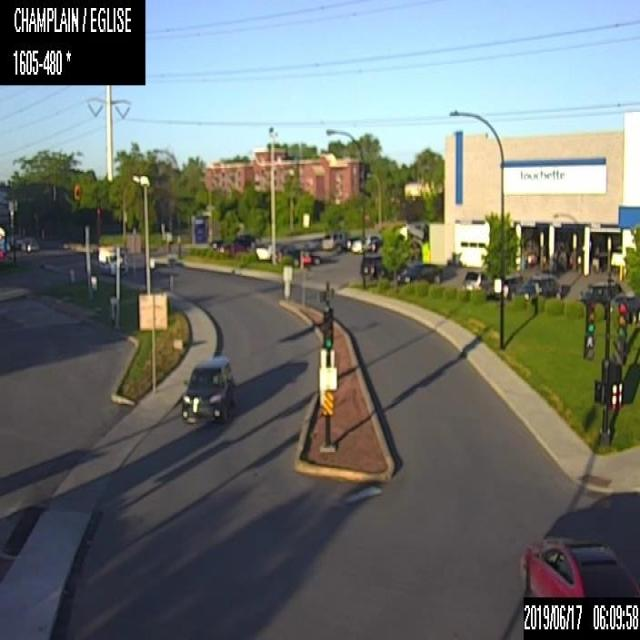vehicle: (517, 535, 639, 596), (180, 355, 233, 420), (360, 254, 408, 278), (396, 260, 442, 284), (518, 274, 562, 298), (579, 280, 622, 302), (96, 244, 126, 275), (486, 273, 522, 298), (611, 290, 639, 322), (283, 246, 319, 265), (347, 234, 377, 254), (218, 237, 249, 255), (463, 269, 489, 290), (321, 230, 345, 250), (274, 243, 298, 262), (16, 236, 39, 252), (255, 238, 272, 259), (370, 236, 380, 253)
